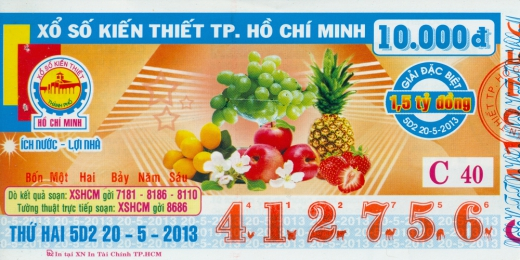serial_zone: (208, 195, 501, 249)
